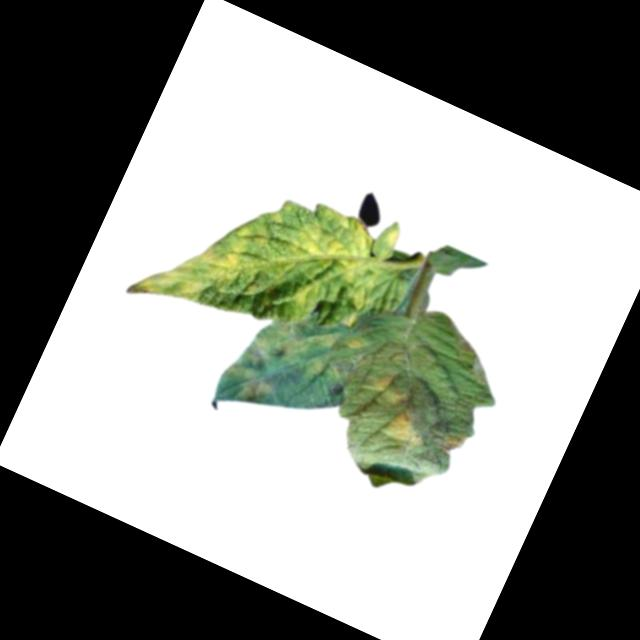Leaf_Mold: (126, 154, 302, 344), (217, 288, 371, 438), (261, 197, 399, 337), (378, 403, 430, 452), (367, 366, 414, 406), (437, 430, 469, 458)
